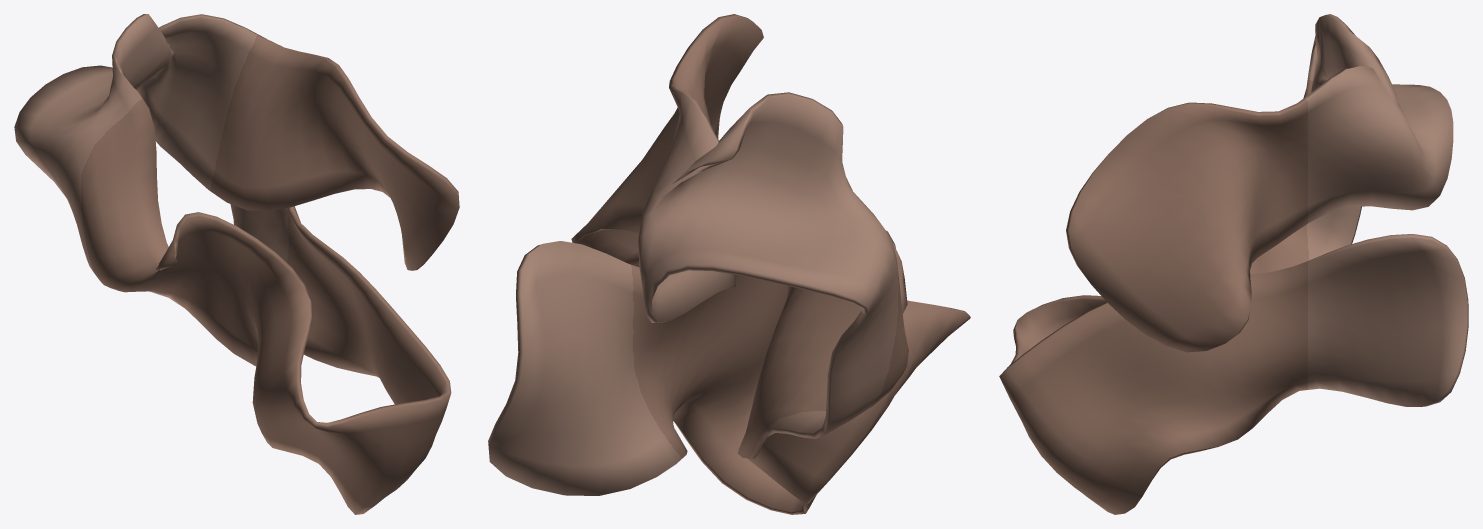
File: cascaraPapa.003.fbx
3 renders of one model, left to right at view 1: azimuth 30°, elevation 25°; view 2: azimuth 150°, elevation 25°; view 3: azimuth 270°, elevation 25°, orthographic. The views are drawn at different scales.
Parts seen in each view (by area): view 1: cascaraPapa.003; view 2: cascaraPapa.003; view 3: cascaraPapa.003.
Part boxes in pixels (x1,y1,x2,y2): cascaraPapa.003: [14, 14, 459, 514]; cascaraPapa.003: [488, 14, 970, 514]; cascaraPapa.003: [999, 14, 1468, 514].
Size of the model in its own units: 65.67 by 89.45 by 86.45.
